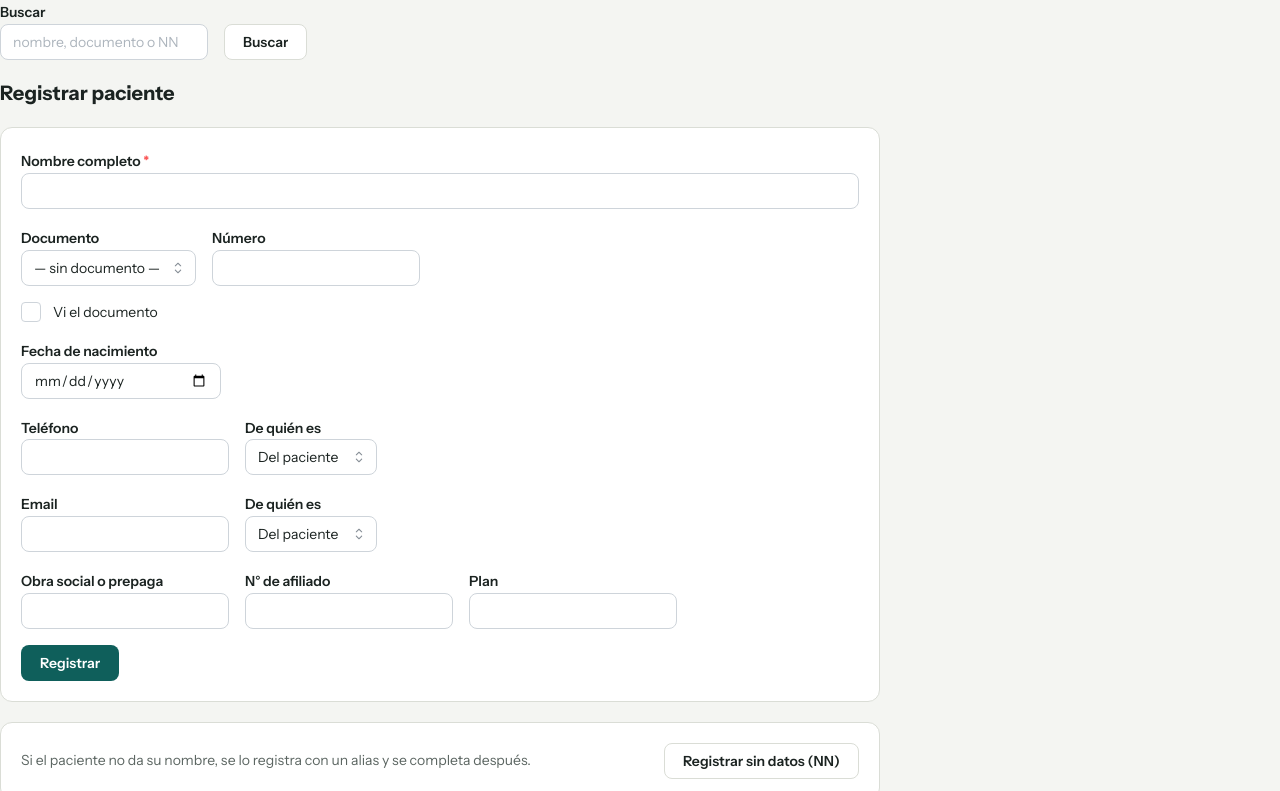
the patients › registers one who gives no name
The image size is (1280, 791).
(page scrolled)
Click the button "Registrar sin datos (NN)". click: (762, 761)
box: top-left (664, 743), bottom-right (859, 779)
(page scrolled)
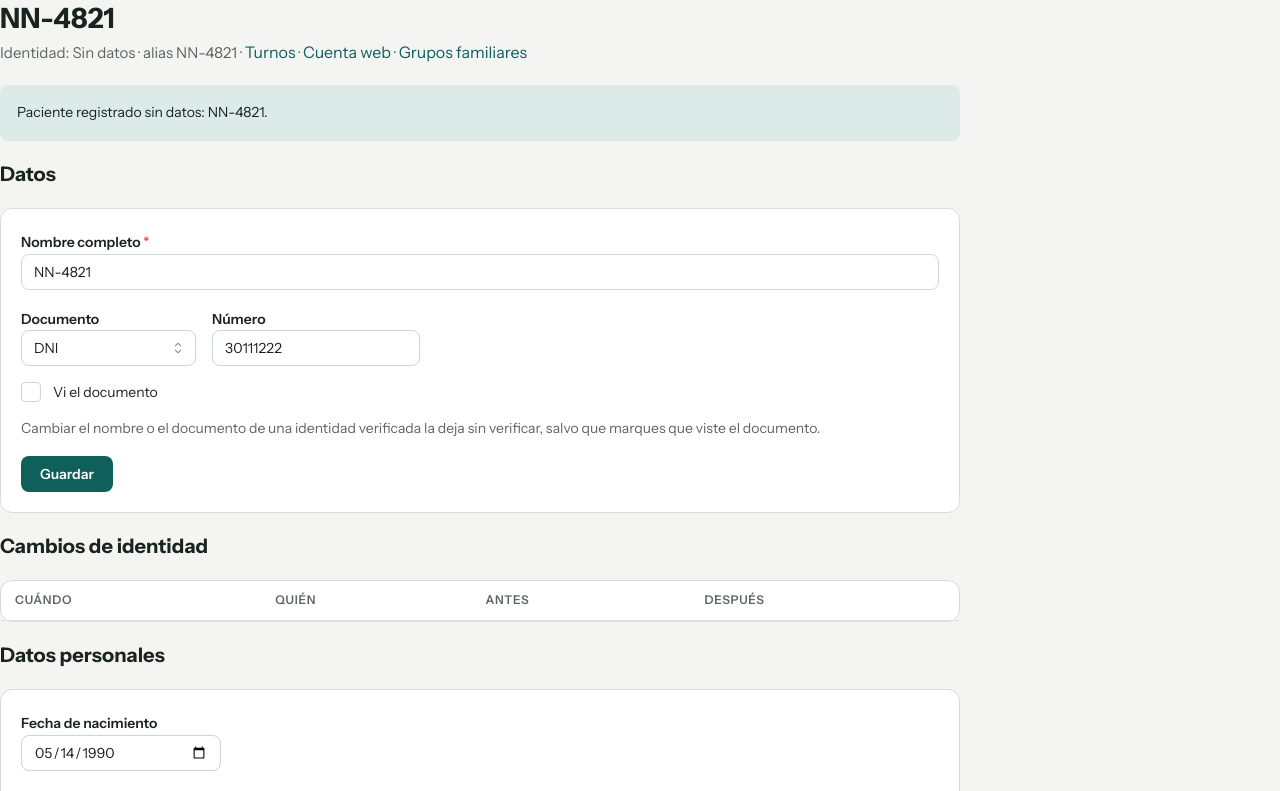
expect the message reads "Paciente registrado sin datos: NN-4821.": met, box top-left (17, 103), bottom-right (268, 121)
